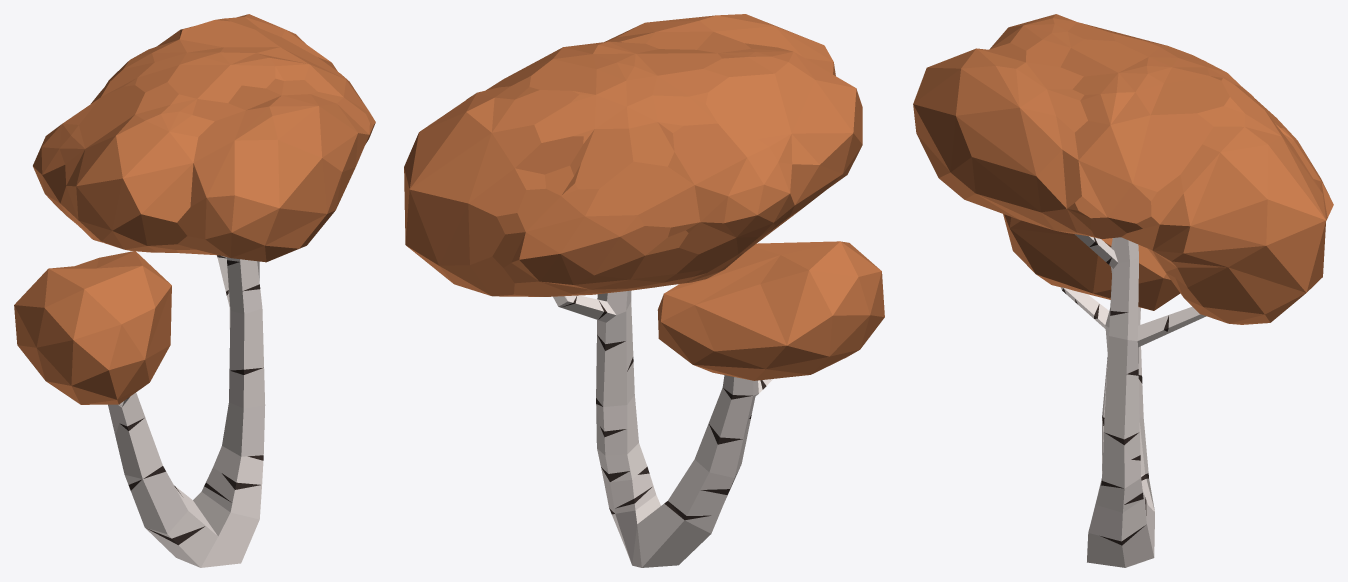
File: SM_Birch_01.fbx
3 views of the same model, side by side, from view 1: azimuth 30°, elevation 25°; view 2: azimuth 150°, elevation 25°; view 3: azimuth 270°, elevation 25° (orthographic).
Parts seen in each view (by area): view 1: SM_Birch_01; view 2: SM_Birch_01; view 3: SM_Birch_01.
Boxes of the visible parts, bbox=[...] form: SM_Birch_01: bbox=[14, 14, 375, 567]; SM_Birch_01: bbox=[404, 14, 884, 567]; SM_Birch_01: bbox=[913, 14, 1333, 567].
Size of the model in its own units: 1409 by 1790 by 1384.
